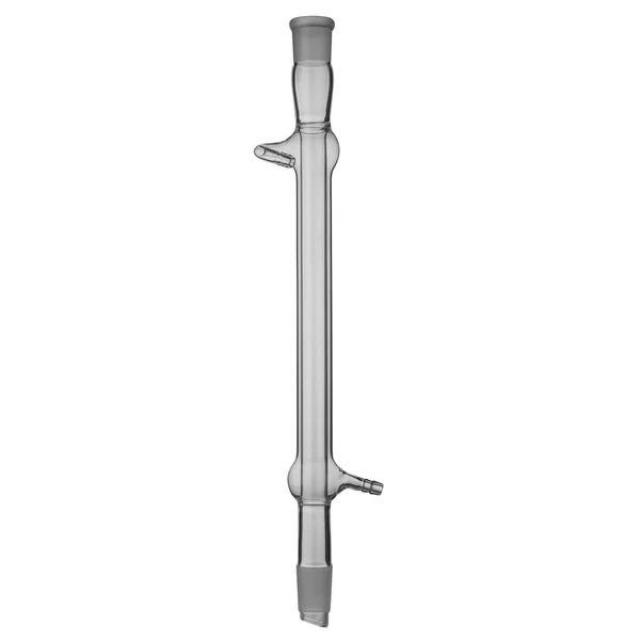Pole: (255, 16, 383, 628)
